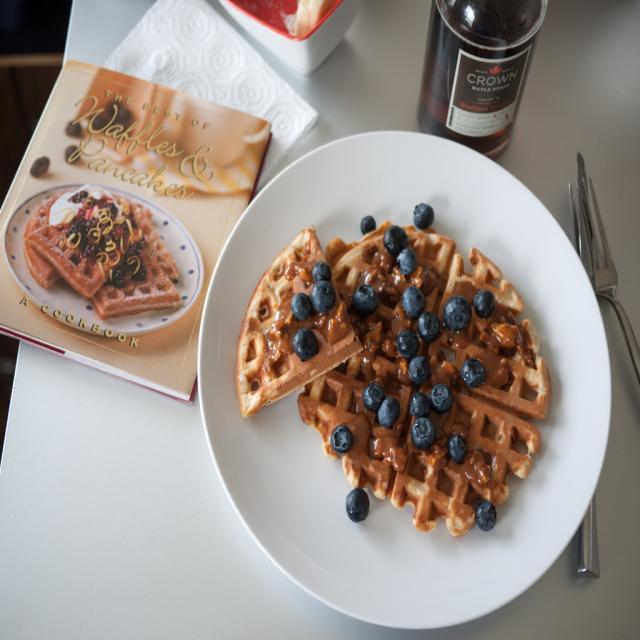Waffle: (298, 219, 555, 535), (234, 222, 364, 418), (26, 219, 142, 297), (90, 240, 182, 321), (115, 194, 179, 282), (21, 191, 74, 286)
